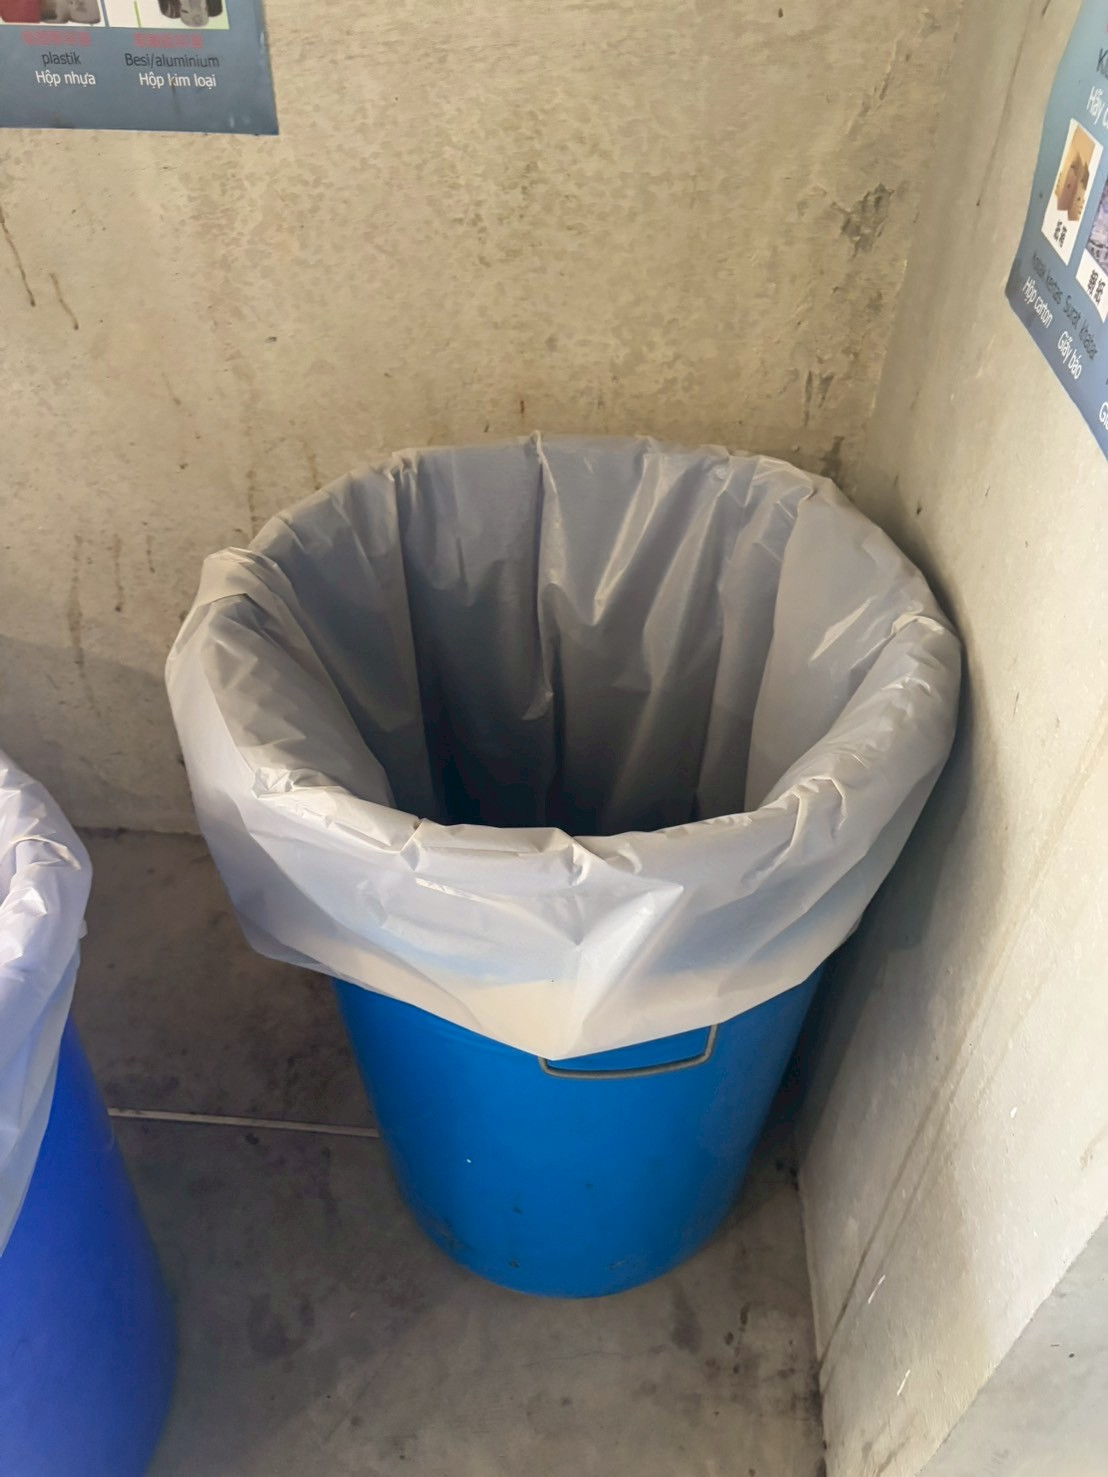normal_bin: (168, 413, 983, 1330)
